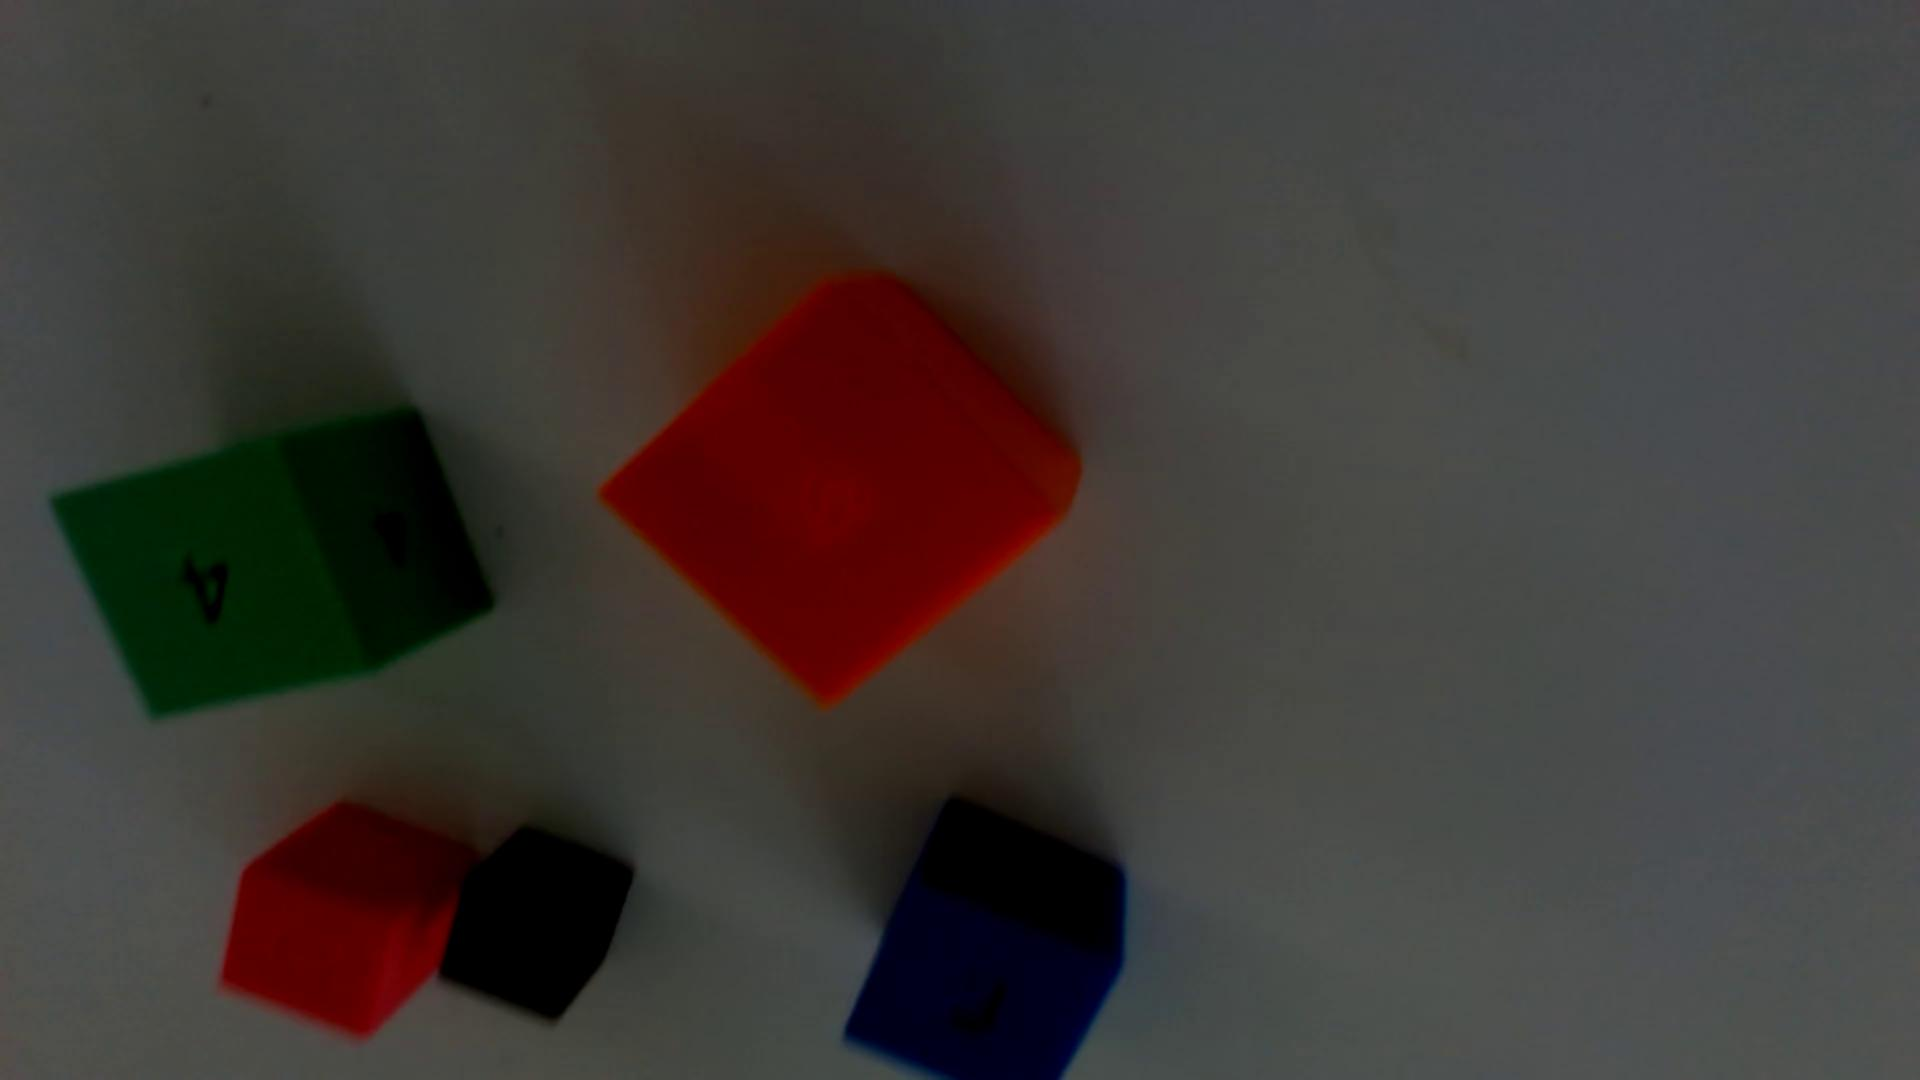black: (440, 831, 633, 1019)
blue: (845, 804, 1126, 1080)
green: (55, 410, 492, 715)
orange: (603, 274, 1081, 702)
red: (222, 804, 473, 1038)
